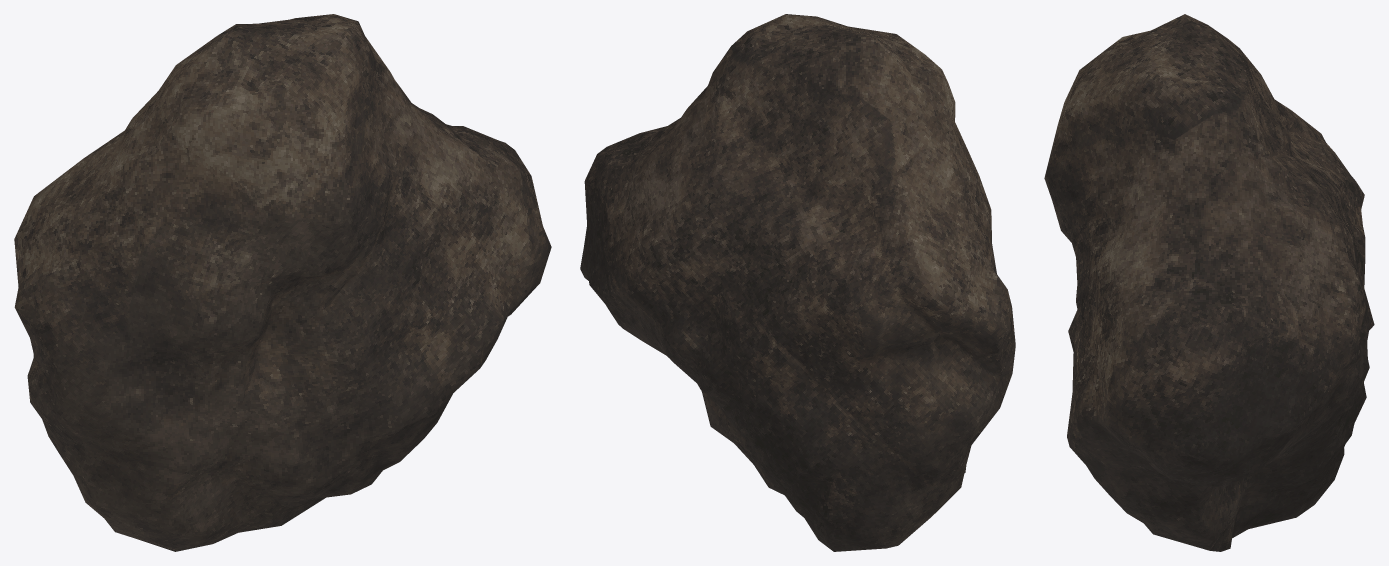
File: SM_RP2_Rock_4m_6.glb
3 views of the same model, side by side, from view 1: azimuth 30°, elevation 25°; view 2: azimuth 150°, elevation 25°; view 3: azimuth 270°, elevation 25° (orthographic). The views are drawn at different scales.
Parts seen in each view (by area): view 1: SM_RP2_Rock_4m_6; view 2: SM_RP2_Rock_4m_6; view 3: SM_RP2_Rock_4m_6.
Boxes of the visible parts, x1=… form: SM_RP2_Rock_4m_6: x1=14, y1=14, x2=551, y2=551; SM_RP2_Rock_4m_6: x1=580, y1=14, x2=1015, y2=551; SM_RP2_Rock_4m_6: x1=1044, y1=14, x2=1374, y2=551.
Bounding box in the file's own units: 7.2 × 7.47 × 4.32.
Materials: 1 (1 with a texture image).
